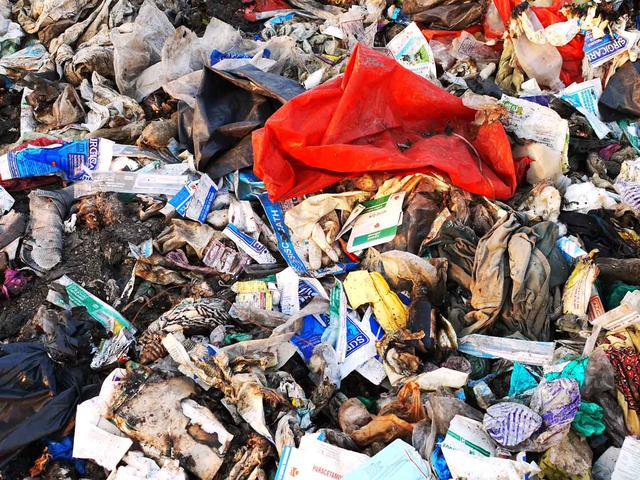garbage: (3, 7, 634, 470)
